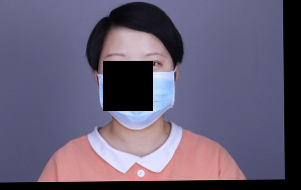with_mask: (96, 51, 178, 131)
